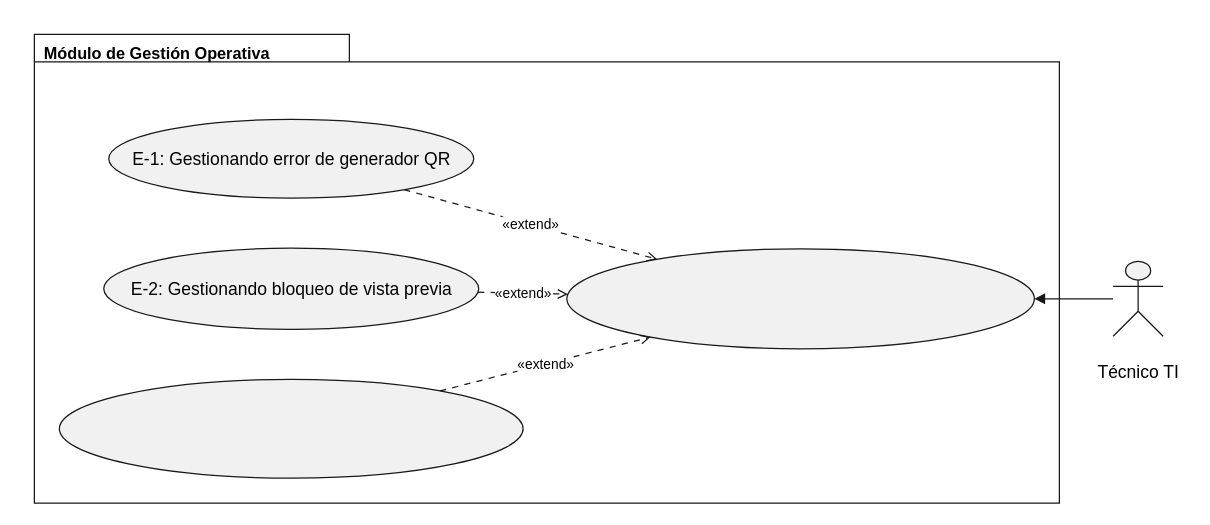
The diagram is 1210 pixels wide and 525 high, and some of its shapes have lost their labels. Each missing label, with the centre of its shape:
CU-48: Generando identificación física de hardware: [800,298]
E-3: Validando formato incompatible con impresora: [290,428]
